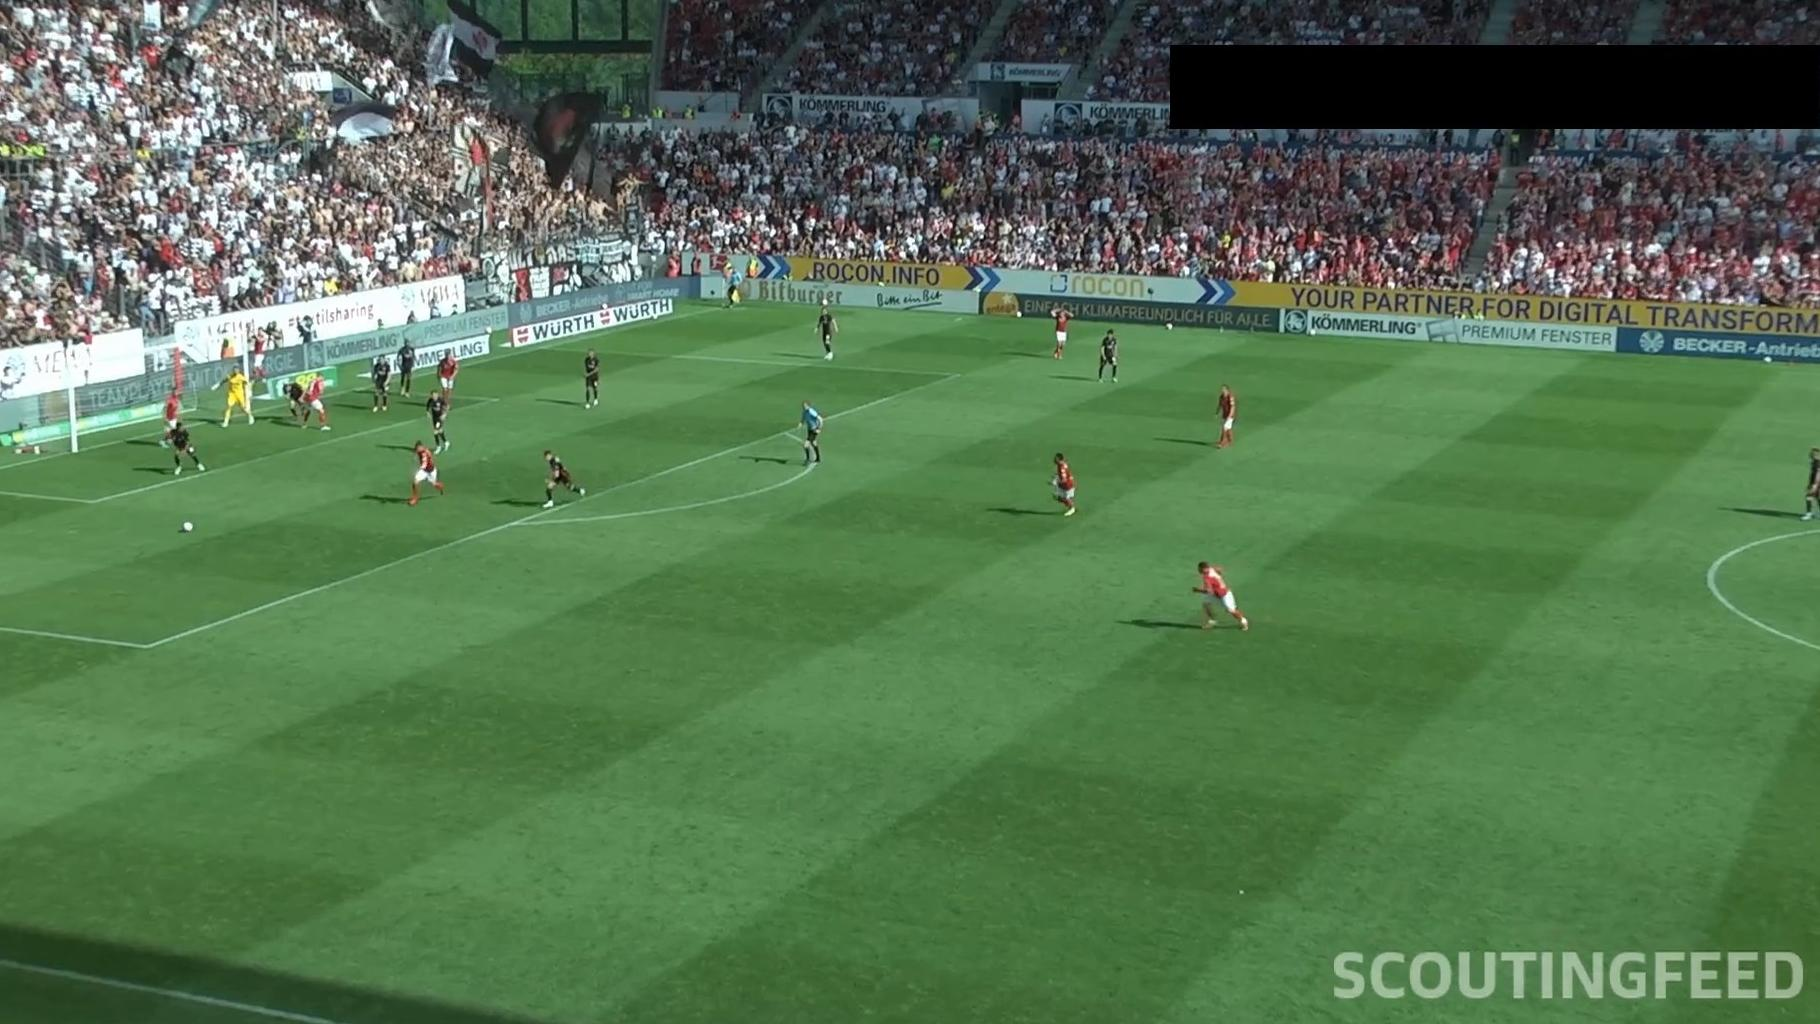ball: (182, 520, 192, 531)
